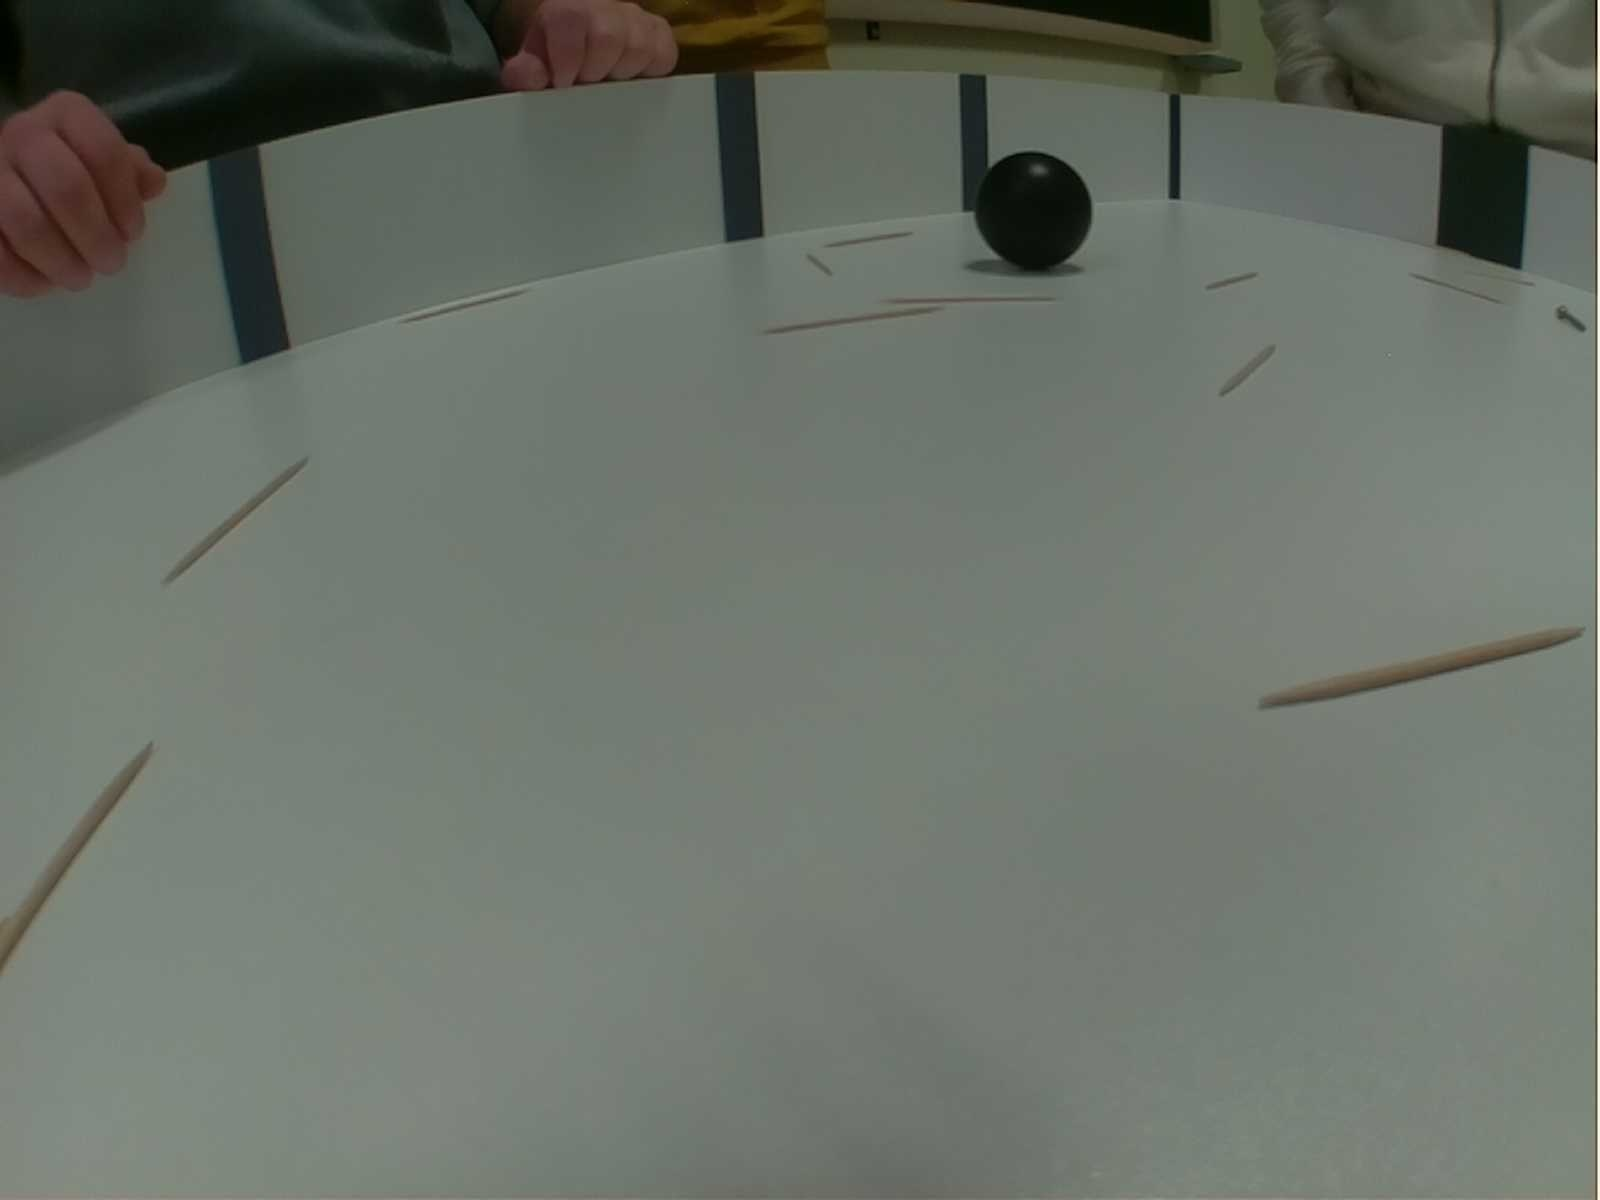nera: (973, 150, 1094, 272)
